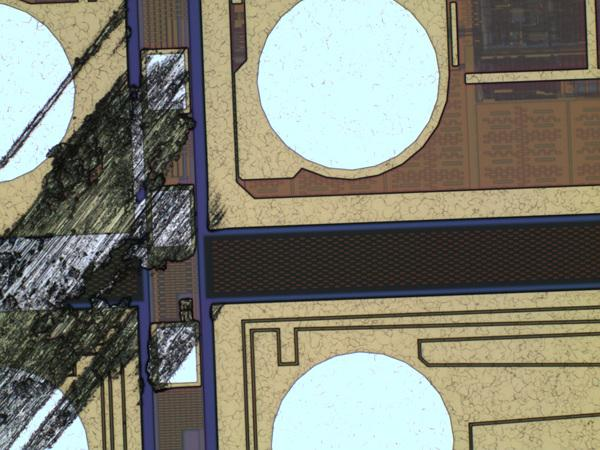SCRATCH: (1, 1, 235, 450)
